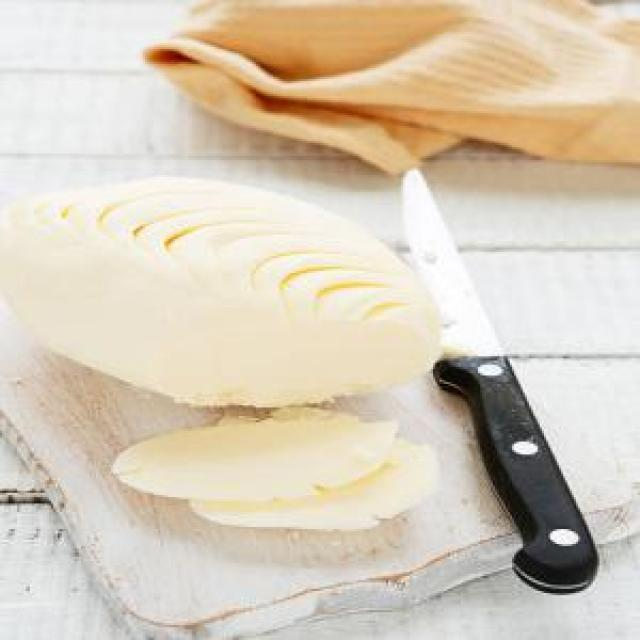knife: (386, 169, 607, 592)
